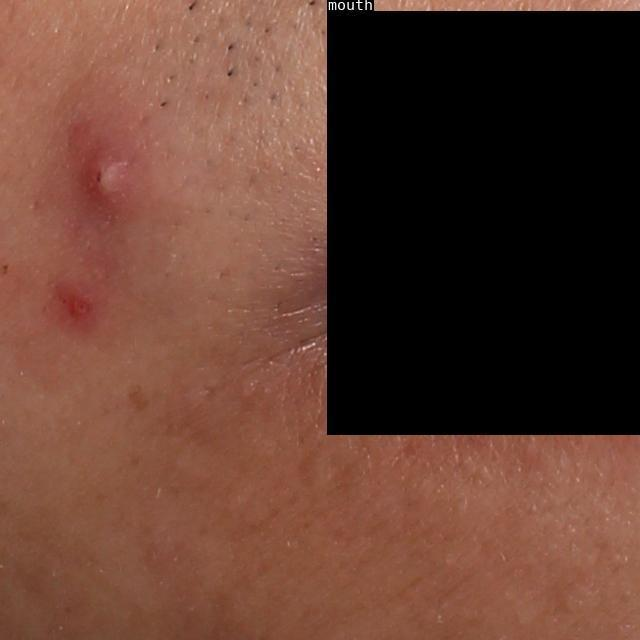papule: (53, 278, 93, 325)
pustule: (74, 142, 143, 225)
